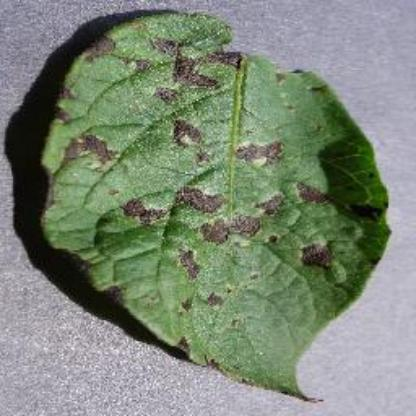Early-Blight: (35, 7, 375, 403)
